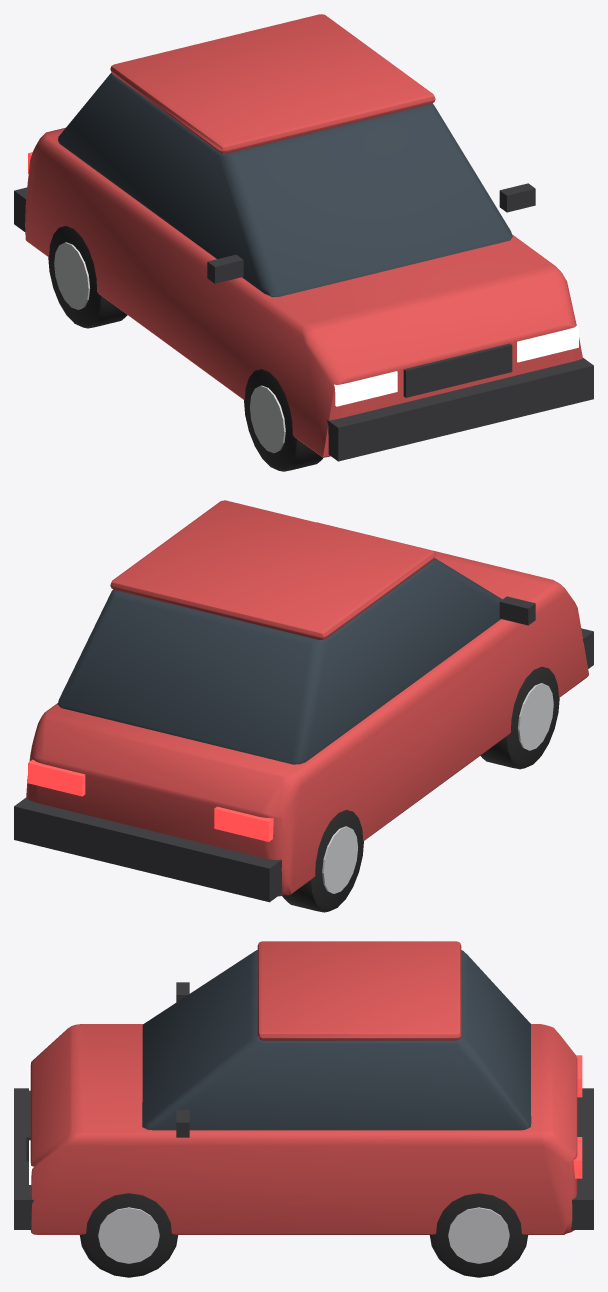
Rendered from car_mini.glb.
The picture shows the model from 3 angles, top to bottom: view 1: azimuth 30°, elevation 25°; view 2: azimuth 150°, elevation 25°; view 3: azimuth 270°, elevation 25°; orthographic projection. The views are drawn at different scales.
Visible parts, largest first — view 1: body, wheel_fr, wheel_rr; view 2: body, wheel_rr, wheel_fr; view 3: body, wheel_fl, wheel_rl.
Boxes of the visible parts, x1=… form: body: x1=14, y1=14, x2=593, y2=461; wheel_fr: x1=244, y1=369, x2=323, y2=471; wheel_rr: x1=48, y1=226, x2=127, y2=328; body: x1=14, y1=500, x2=593, y2=902; wheel_rr: x1=282, y1=810, x2=363, y2=912; wheel_fr: x1=480, y1=666, x2=559, y2=769; body: x1=14, y1=941, x2=593, y2=1234; wheel_fl: x1=79, y1=1193, x2=178, y2=1277; wheel_rl: x1=429, y1=1193, x2=528, y2=1277.
Size of the model in its own units: 2 by 1.57 by 3.5.
